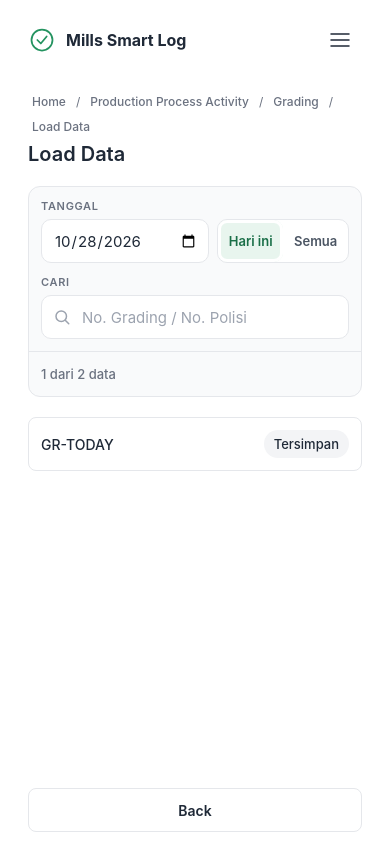
Test: DataPreviewGradingView › allows the user to change or clear the date filter after the default is applied
Check: the button with test id "record-item-rec-today" is shown, box left=28, top=417, right=362, bottom=471
Note: User changes the date filter to the other record's date.
Type "2020-01-01" into the date field with test id "date-filter-input".
click(125, 241); type("2020-01-01")  # box left=41, top=219, right=209, bottom=263
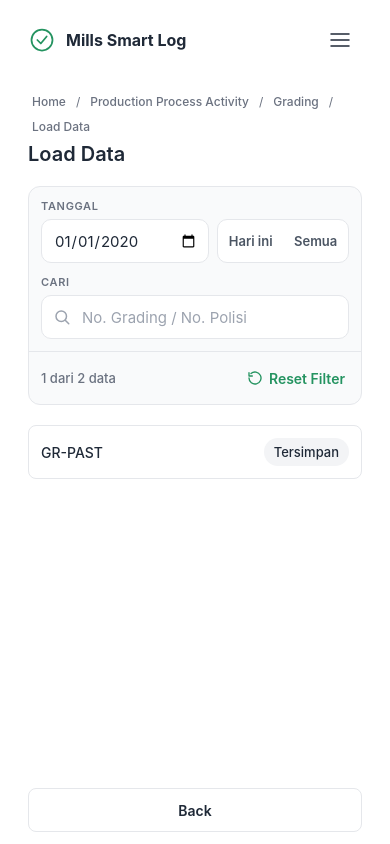
Check: the button with test id "record-item-rec-past" is shown, box left=28, top=425, right=362, bottom=479
Note: User clears the date filter — both records reappear.
Clear the date field with test id "date-filter-input" at {"x": 125, "y": 241}, box left=41, top=219, right=209, bottom=263
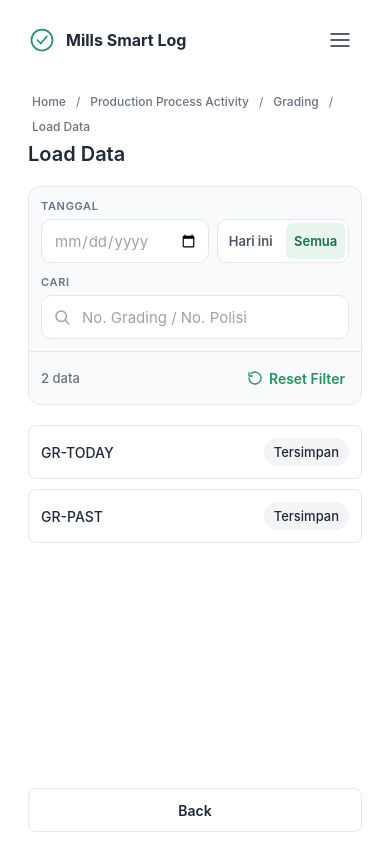
Check: the button with test id "record-item-rec-past" is shown, box left=28, top=489, right=362, bottom=543
Check: the button with test id "record-item-rec-today" is shown, box left=28, top=425, right=362, bottom=479
